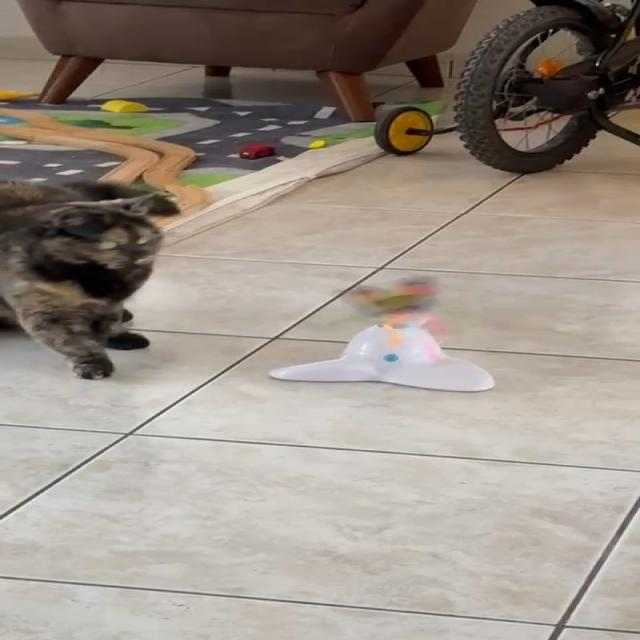authorized: (0, 178, 180, 380)
